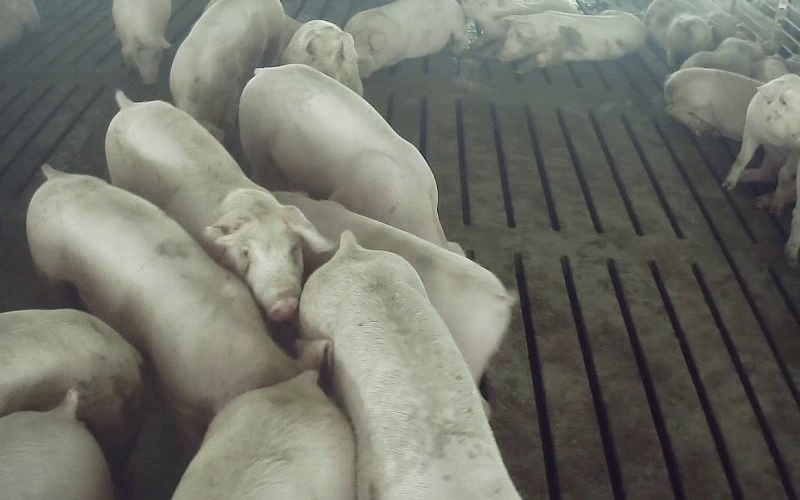pig: (27, 167, 301, 434), (300, 232, 518, 499), (105, 93, 332, 319), (275, 192, 515, 381), (172, 371, 354, 499), (0, 389, 112, 499), (497, 10, 645, 70), (664, 67, 761, 140), (461, 0, 578, 55), (281, 20, 362, 95), (112, 0, 171, 83), (644, 0, 713, 69), (680, 37, 763, 76)
